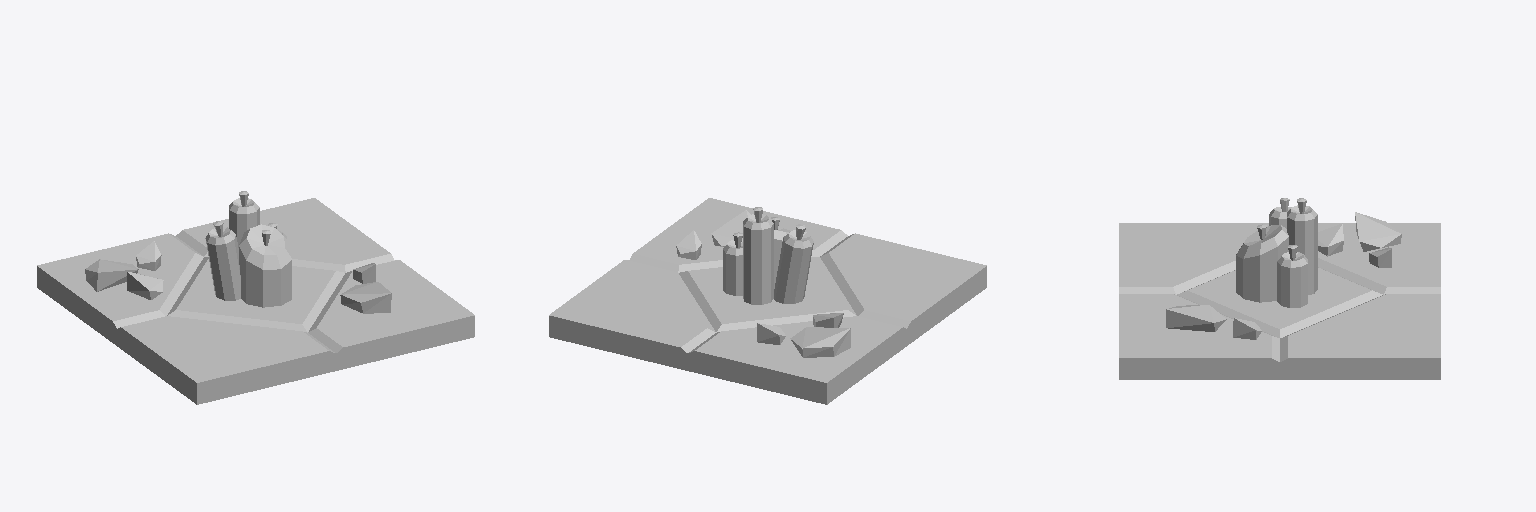
File: floor_tile_small_decorated.obj
3 renders of one model, left to right at view 1: azimuth 30°, elevation 25°; view 2: azimuth 150°, elevation 25°; view 3: azimuth 270°, elevation 25°, orthographic.
Parts seen in each view (by area): view 1: floor_tile_small_decorated_Cube.15947; view 2: floor_tile_small_decorated_Cube.15947; view 3: floor_tile_small_decorated_Cube.15947.
Part boxes in pixels (left/top/right/bottom): floor_tile_small_decorated_Cube.15947: left=37, top=191, right=474, bottom=404; floor_tile_small_decorated_Cube.15947: left=549, top=198, right=986, bottom=404; floor_tile_small_decorated_Cube.15947: left=1119, top=198, right=1440, bottom=379.
Bounding box in the file's own units: 2 × 0.773 × 2.